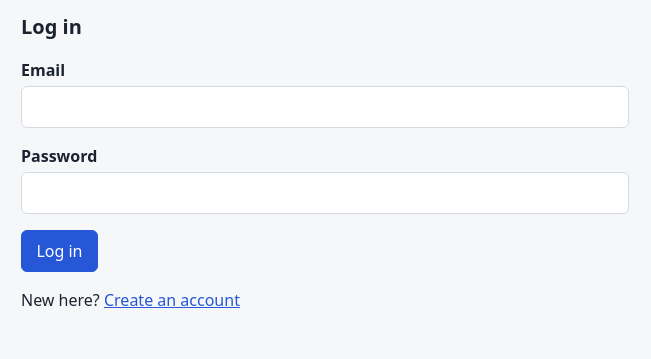
LoginForm › extra: shows a general message when the network fails
Type "ada@example.com" into the field labelled "Email". click: (325, 107)
box: [21,86,629,128]
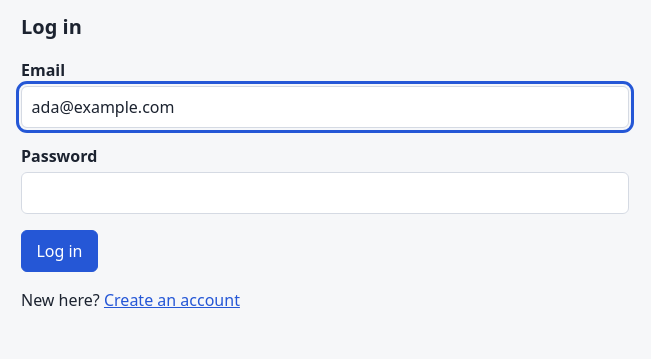
Type "correct horse battery staple" into the password field labelled "Password". click: (325, 193)
box: [21,172,629,214]
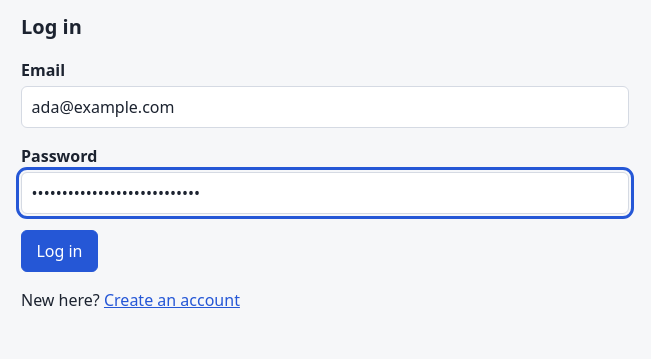
Click the button "Log in". click: click(59, 251)
box: [21,230,98,272]
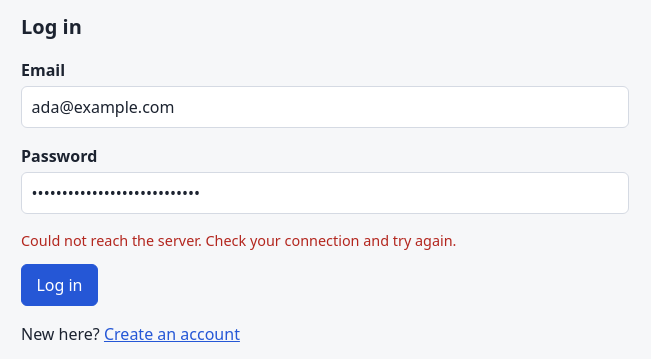
Expected: the message shows "Could not reach the server", [21,231,456,250]
